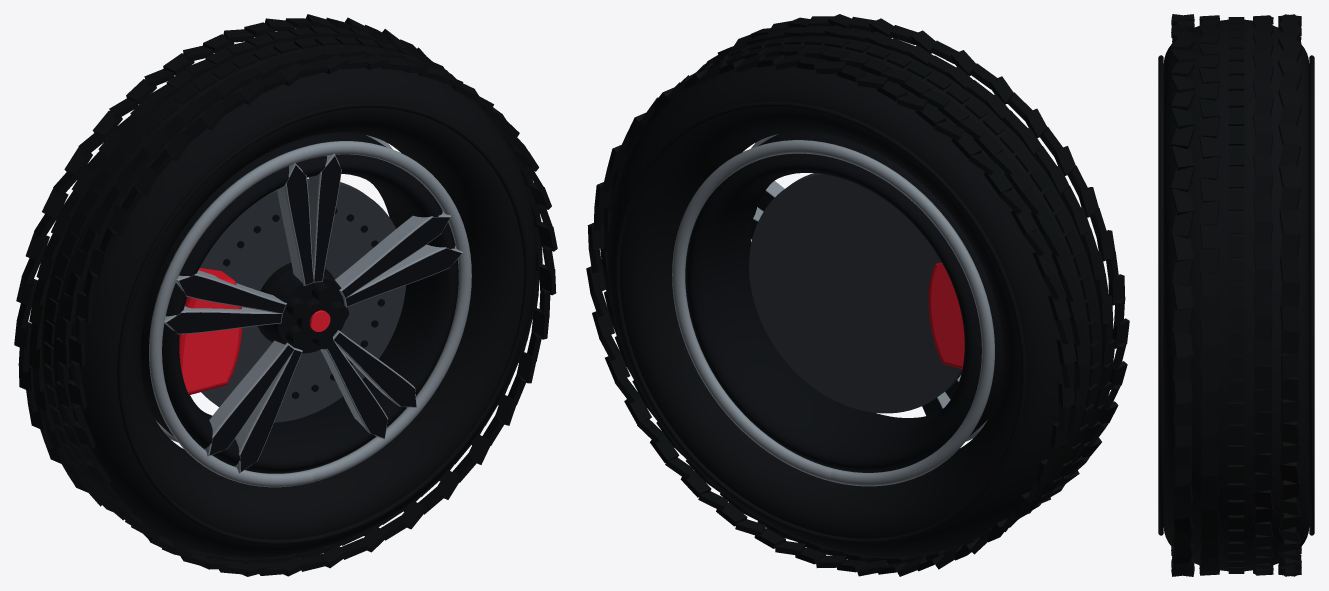
The model's file is cyl-sport-wheel.glb.
3 views of the same model, side by side, from view 1: azimuth 30°, elevation 25°; view 2: azimuth 150°, elevation 25°; view 3: azimuth 270°, elevation 25° (orthographic).
Visible parts, largest first — view 1: Tire_Casing, Directional_Tread, Rim_Barrel, Brake_Disc, Machined_Lip_1, Sidewall_Rib_1, Caliper, Spoke_05, Spoke_10, Spoke_02, Spoke_01, Spoke_06 (+8 smaller); view 2: Tire_Casing, Directional_Tread, Rim_Barrel, Brake_Disc, Machined_Lip_-1, Sidewall_Rib_-1, Caliper; view 3: Directional_Tread, Tire_Casing, Sidewall_Rib_-1, Sidewall_Rib_1.
Part boxes in pixels (bbox=[...]): Tire_Casing: bbox=[41, 37, 536, 557]; Directional_Tread: bbox=[14, 14, 557, 576]; Rim_Barrel: bbox=[140, 132, 457, 472]; Brake_Disc: bbox=[200, 178, 405, 422]; Machined_Lip_1: bbox=[149, 141, 471, 487]; Sidewall_Rib_1: bbox=[117, 102, 529, 544]; Caliper: bbox=[179, 268, 242, 394]; Spoke_05: bbox=[204, 340, 294, 456]; Spoke_10: bbox=[335, 210, 450, 298]; Spoke_02: bbox=[277, 162, 313, 286]; Spoke_01: bbox=[308, 153, 341, 282]; Spoke_06: bbox=[234, 348, 302, 473]; Tire_Casing: bbox=[607, 36, 1101, 557]; Directional_Tread: bbox=[586, 14, 1129, 576]; Rim_Barrel: bbox=[686, 131, 1003, 472]; Brake_Disc: bbox=[749, 173, 962, 413]; Machined_Lip_-1: bbox=[672, 140, 994, 486]; Sidewall_Rib_-1: bbox=[614, 101, 1026, 543]; Caliper: bbox=[928, 262, 964, 369]; Directional_Tread: bbox=[1171, 14, 1301, 576]; Tire_Casing: bbox=[1163, 19, 1309, 571]; Sidewall_Rib_-1: bbox=[1309, 55, 1314, 535]; Sidewall_Rib_1: bbox=[1158, 55, 1163, 535].
Bounding box in the file's own units: 5.28 × 5.24 × 1.46.
